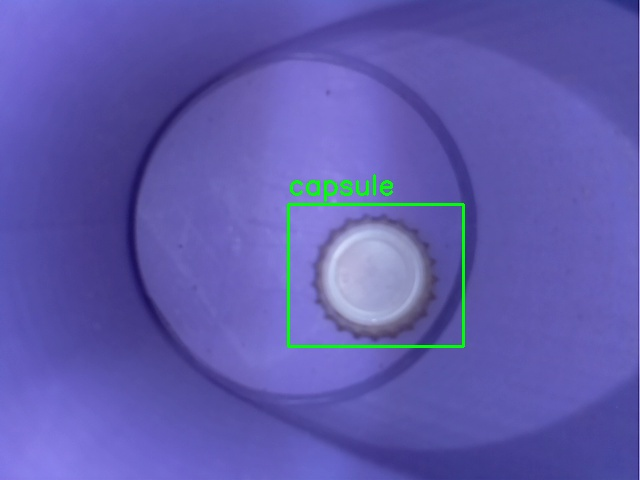capsule: (288, 204, 463, 346)
